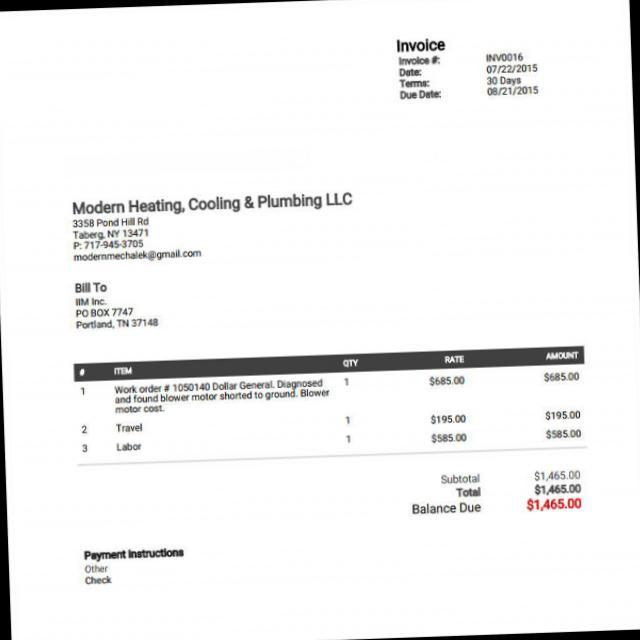customer_address: (74, 306, 160, 332)
customer_name: (74, 295, 109, 309)
due_date: (485, 85, 548, 102)
invoice_date: (486, 63, 548, 75)
invoice_number: (484, 48, 528, 64)
invoice_subtotal: (531, 467, 584, 482)
invoice_total: (531, 484, 584, 497)
item_description: (109, 380, 333, 454)
item_quantity: (336, 374, 364, 446)
item_total_price: (539, 369, 586, 443)
item_unit_price: (422, 371, 474, 448)
supplier_address: (72, 217, 154, 241)
supplier_name: (68, 189, 366, 217)
